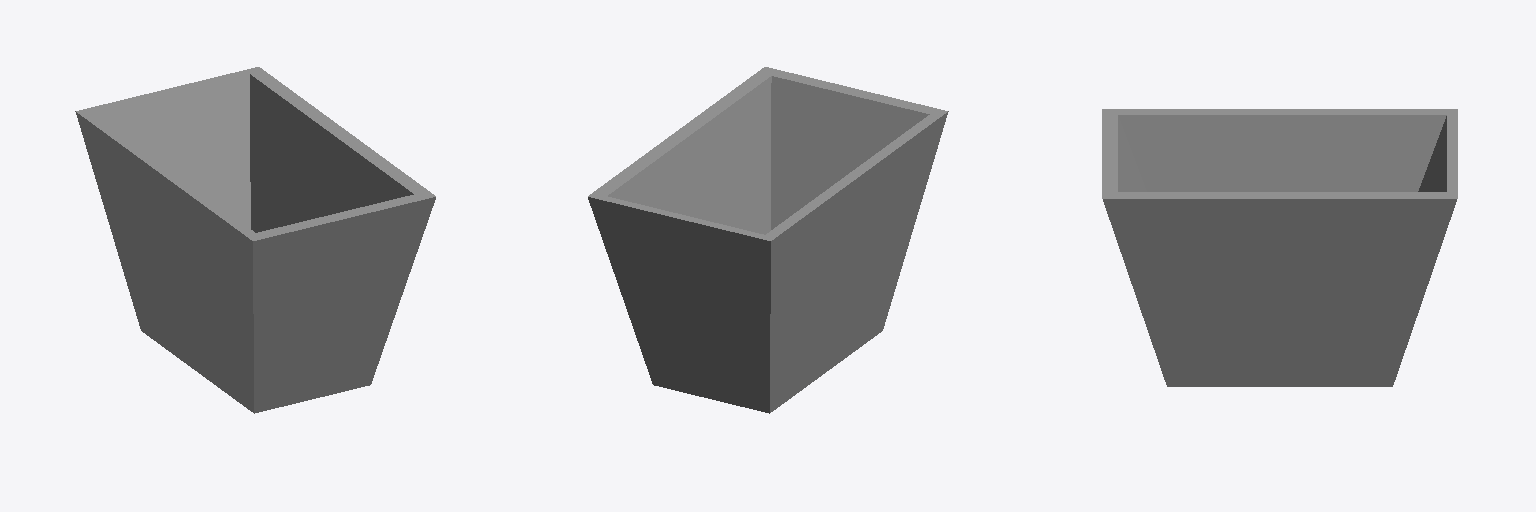
File: cart.obj
3 renders of one model, left to right at view 1: azimuth 30°, elevation 25°; view 2: azimuth 150°, elevation 25°; view 3: azimuth 270°, elevation 25°, orthographic.
Visible parts, largest first — view 1: Cube; view 2: Cube; view 3: Cube.
Boxes of the visible parts, x1,y1,x2,y2 form: Cube: [75, 67, 435, 413]; Cube: [588, 67, 948, 413]; Cube: [1102, 109, 1457, 386].
Bounding box in the file's own units: 1.88 × 2 × 3.16.